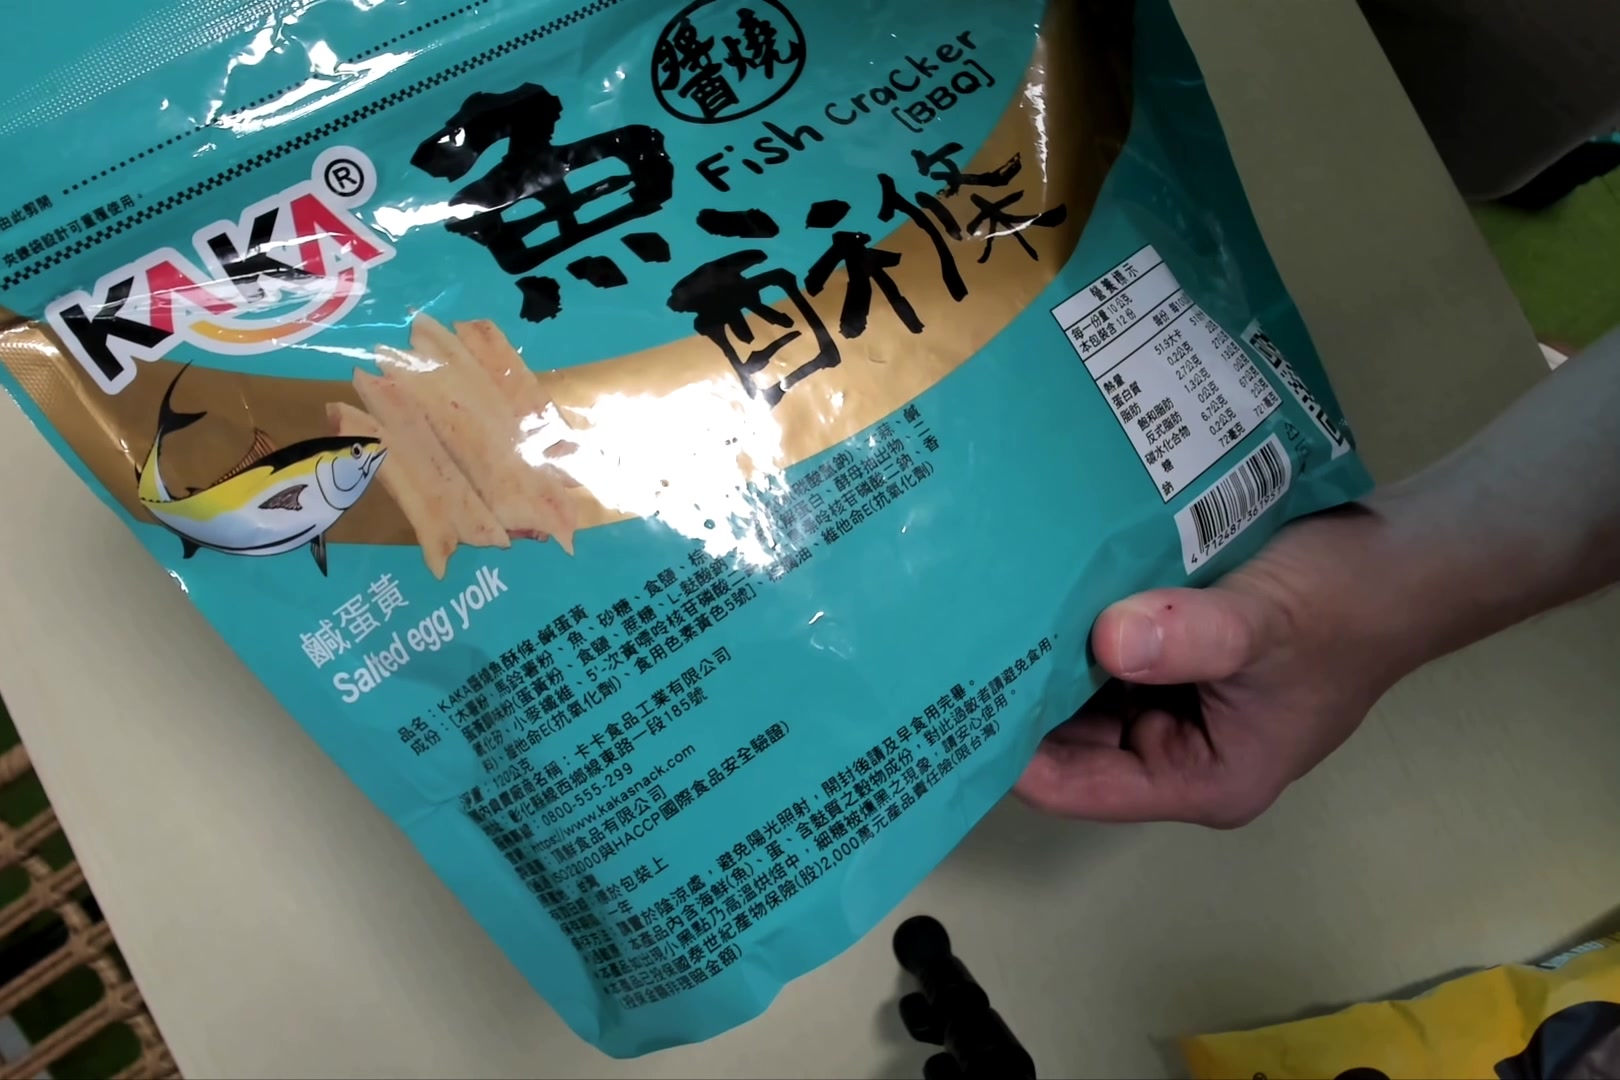PotatoChipsKeropok_100-199g_NonHalal_NonHealthy: (6, 6, 1366, 1064)
